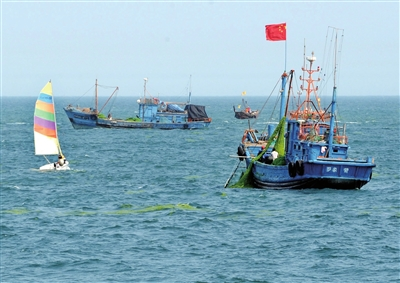otherboat: (236, 20, 369, 186), (68, 80, 215, 132)
